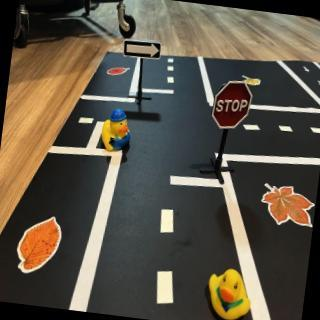duck_regular: (204, 268, 256, 320)
duck_specialty: (101, 108, 134, 154)
sign_oneway_right: (123, 38, 164, 64)
sign_stop: (211, 80, 255, 136)
